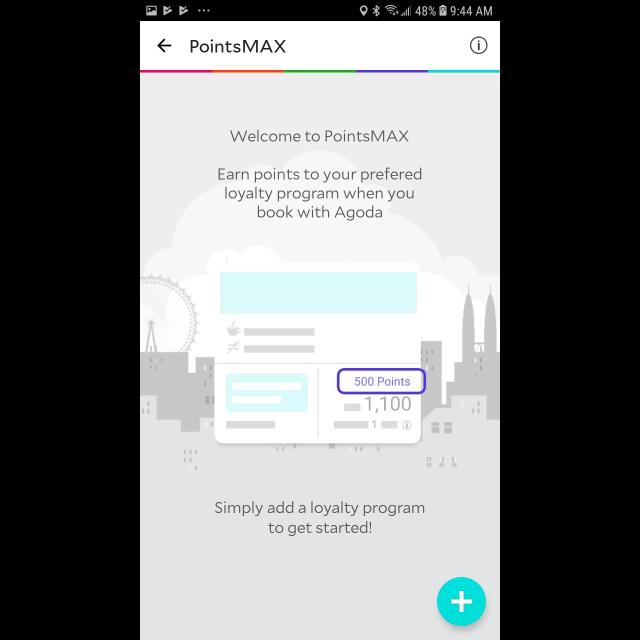backgroundimage: (140, 72, 500, 640)
icon: (436, 577, 486, 627), (470, 37, 488, 55), (158, 38, 172, 54)
text: (218, 168, 422, 220), (216, 502, 424, 536), (230, 130, 410, 142), (190, 39, 286, 53)
uppertaskbar: (140, 1, 500, 22)
